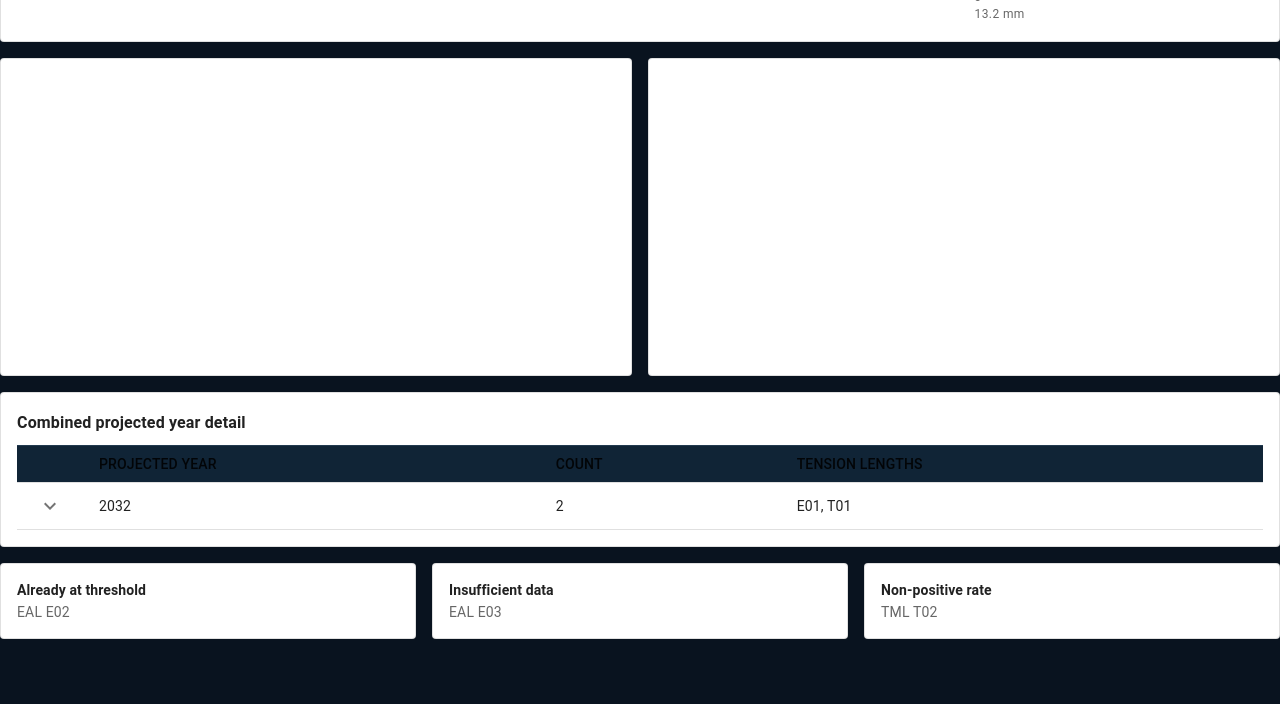
Test case: WearProjectionPanel › shows combined expandable year detail and all projection status lists
Check: the column heading "Projected Year" is shown, box [83,445,540,482]
Check: the text "E01, T01" is shown, box [781,482,1263,529]
Click the button named "expand 2032". click: (50, 506)
box: [33,489,67,523]
(page scrolled)
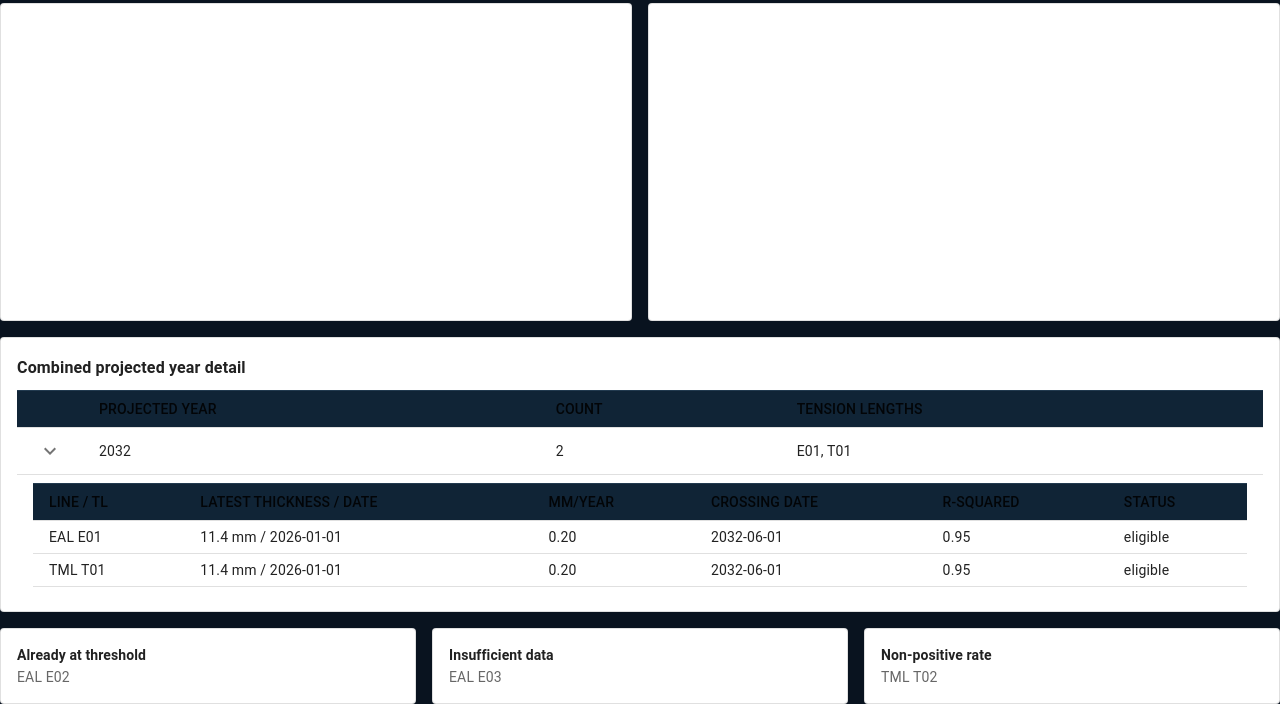
Check: the heading "Already at threshold" is shown, box [17,647,146,663]
Check: the text "2032-06-01" is shown 2 times, box [695,520,927,553]; [695,553,927,586]
